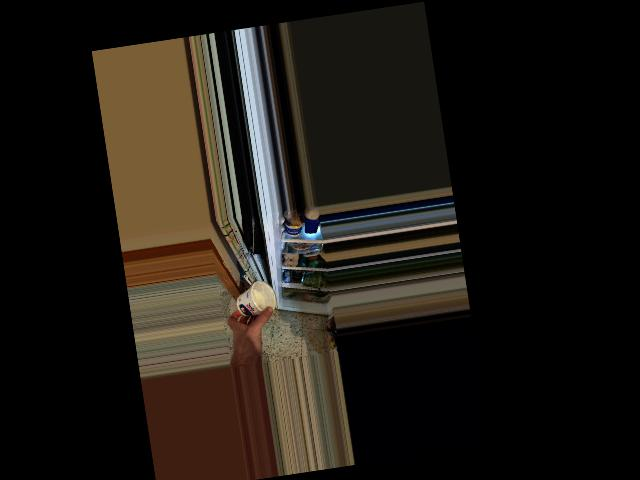cotage: (234, 275, 275, 318)
